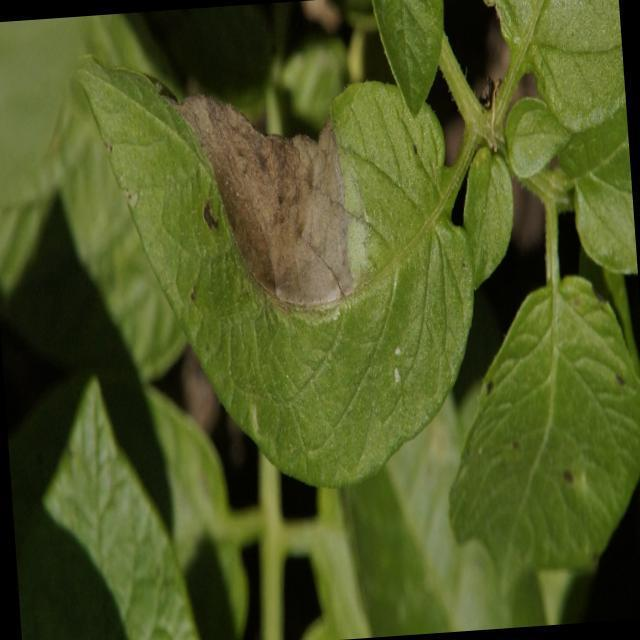Healthy Leaf: (457, 134, 523, 296), (371, 0, 451, 122), (502, 98, 570, 178)
